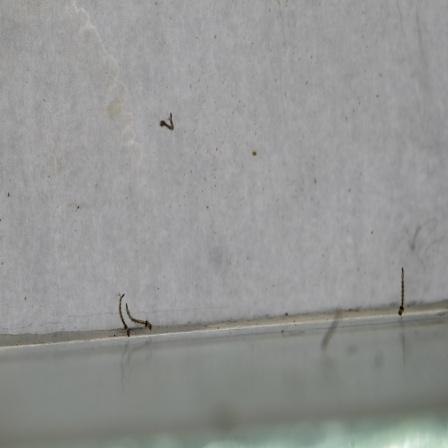Jentik-Nyamuk: (113, 290, 156, 339), (395, 264, 409, 318), (155, 109, 178, 135)
